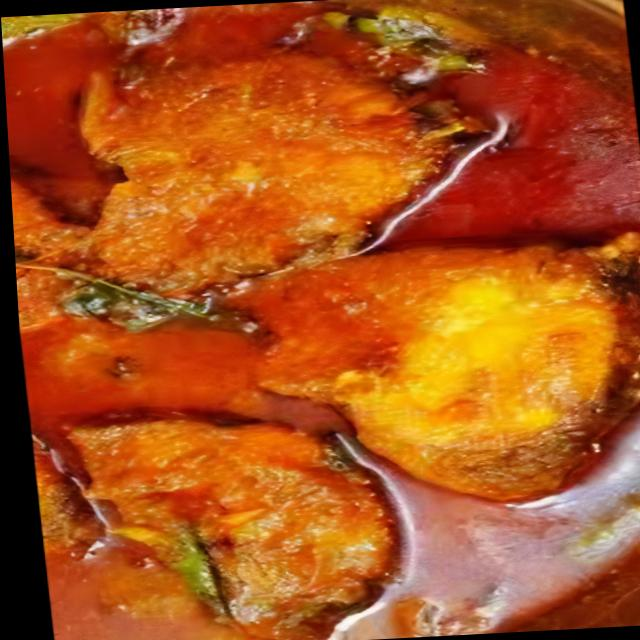FISH CURRY: (1, 0, 640, 640)
